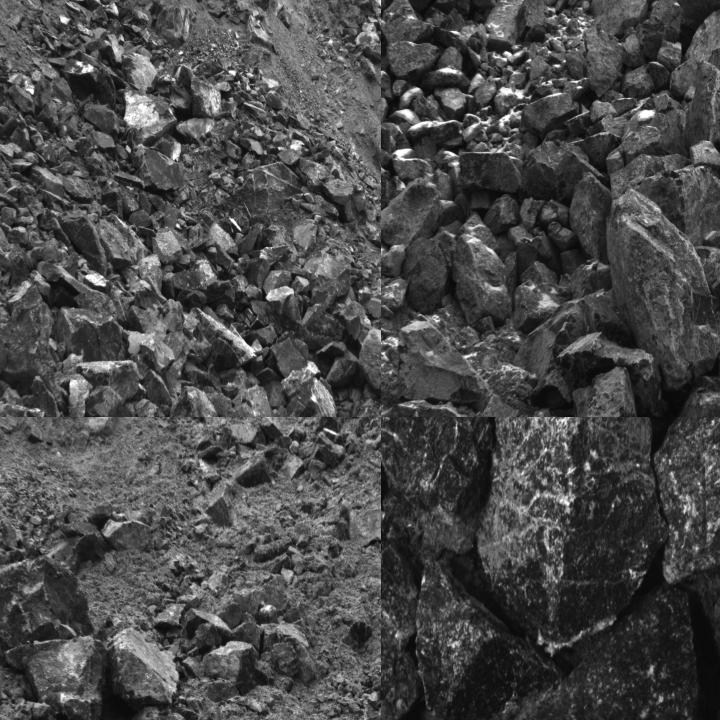stone: (478, 417, 664, 648), (483, 588, 701, 719), (415, 547, 556, 719), (601, 190, 718, 380), (381, 417, 493, 552), (655, 417, 719, 584), (4, 635, 106, 719), (0, 559, 94, 648), (5, 281, 67, 404), (399, 319, 487, 405), (381, 522, 419, 719), (105, 629, 180, 710), (451, 234, 508, 326), (381, 177, 442, 253), (671, 7, 719, 103), (190, 307, 256, 372), (228, 162, 304, 218), (126, 126, 192, 190), (518, 141, 587, 201), (252, 286, 314, 348), (57, 305, 122, 362), (201, 642, 276, 690), (621, 112, 689, 164), (571, 172, 611, 260), (403, 238, 447, 316), (572, 366, 639, 416), (54, 212, 107, 274), (122, 88, 176, 148), (684, 60, 719, 152), (512, 283, 570, 335), (637, 0, 682, 64), (62, 57, 116, 110), (303, 251, 351, 309), (582, 27, 621, 97), (520, 93, 580, 136), (406, 120, 467, 162), (458, 152, 522, 192), (579, 0, 650, 35), (75, 360, 139, 398), (381, 0, 436, 44), (388, 41, 438, 86), (484, 0, 527, 51), (184, 608, 238, 647), (207, 386, 277, 416), (271, 332, 315, 378), (672, 0, 719, 43), (287, 376, 336, 416), (96, 217, 132, 270), (303, 306, 344, 348), (102, 522, 153, 555), (138, 331, 178, 371), (170, 384, 220, 416), (181, 313, 211, 366), (358, 328, 380, 396), (125, 303, 167, 338), (85, 385, 132, 416), (122, 52, 157, 92), (328, 303, 363, 343), (30, 166, 64, 205), (82, 101, 118, 137), (218, 367, 259, 397), (192, 78, 221, 120), (169, 64, 192, 114), (173, 117, 215, 144), (234, 619, 264, 656), (152, 229, 184, 263), (137, 253, 164, 293), (325, 358, 360, 387), (144, 369, 170, 406), (0, 400, 60, 416), (8, 83, 36, 116), (271, 642, 299, 675), (63, 174, 97, 200), (238, 223, 266, 254), (322, 179, 354, 206), (151, 134, 182, 160), (263, 269, 291, 296), (89, 129, 116, 157), (174, 269, 208, 290), (658, 40, 681, 70), (381, 0, 434, 13), (36, 99, 58, 130), (247, 258, 268, 290), (649, 62, 671, 92), (33, 80, 53, 110), (277, 148, 303, 166), (290, 276, 309, 295), (361, 700, 380, 719), (198, 211, 214, 233), (305, 173, 323, 192), (221, 98, 236, 120)
